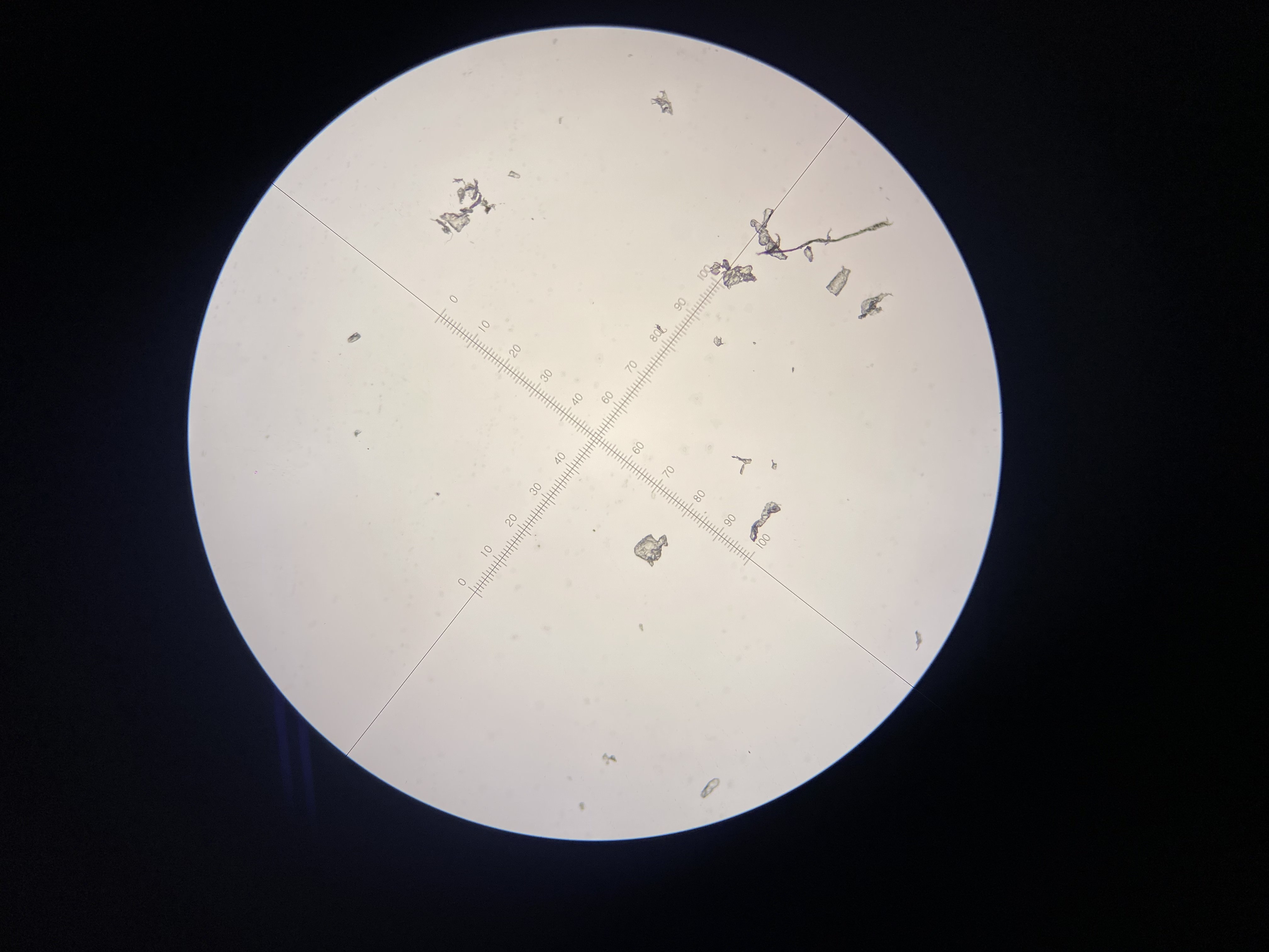microplastic: (755, 222, 893, 257), (430, 178, 496, 245), (750, 208, 788, 260), (710, 259, 758, 290), (750, 502, 781, 542), (634, 534, 668, 567), (858, 292, 894, 320), (826, 265, 851, 297), (651, 90, 673, 115), (700, 778, 720, 798), (731, 456, 752, 475), (602, 752, 617, 765), (804, 246, 814, 263), (347, 332, 361, 343), (915, 630, 922, 651), (713, 336, 725, 347), (654, 324, 667, 334), (508, 170, 520, 178), (771, 460, 777, 470)
